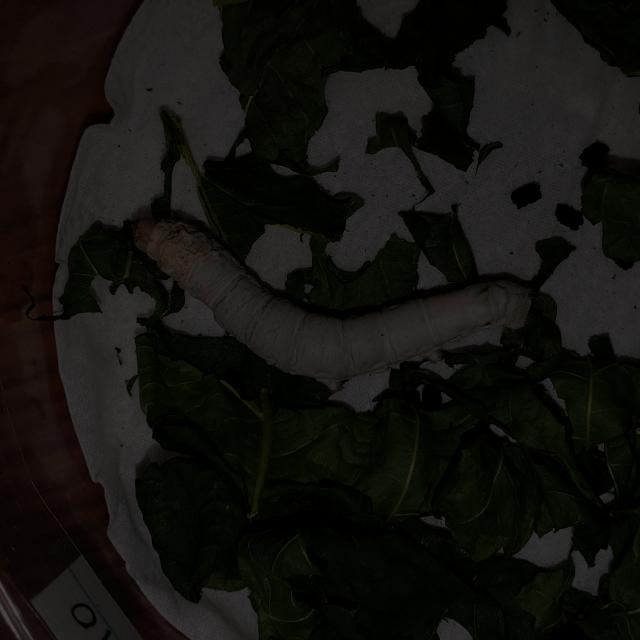Healthy: (126, 202, 542, 384)
